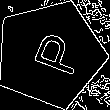P_W: (19, 28, 82, 80)
